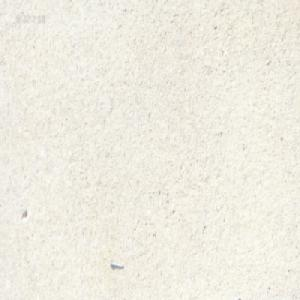Nail: (108, 259, 123, 268)
